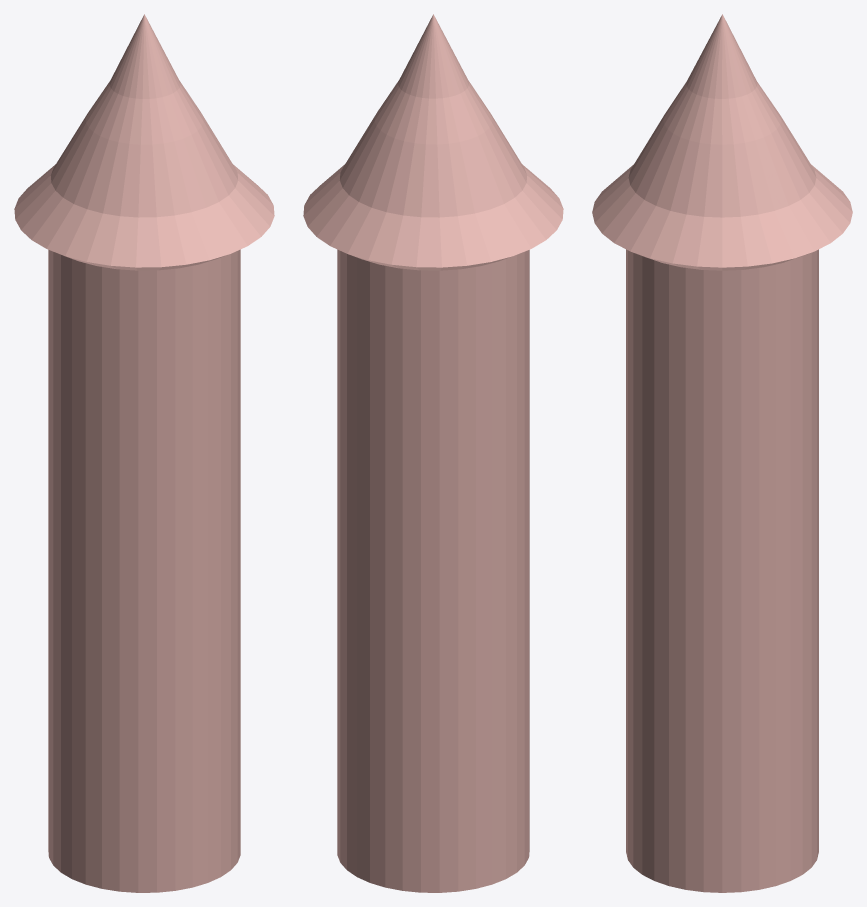
Rendered from Tower_Capped.fbx.
3 renders of one model, left to right at view 1: azimuth 30°, elevation 25°; view 2: azimuth 150°, elevation 25°; view 3: azimuth 270°, elevation 25°, orthographic.
Parts seen in each view (by area): view 1: Capped_Tower; view 2: Capped_Tower; view 3: Capped_Tower.
Part boxes in pixels (x1,y1,x2,y2): Capped_Tower: (14,14,274,892); Capped_Tower: (303,14,563,892); Capped_Tower: (592,14,852,892).
Size of the model in its own units: 1547 by 5490 by 1547.
